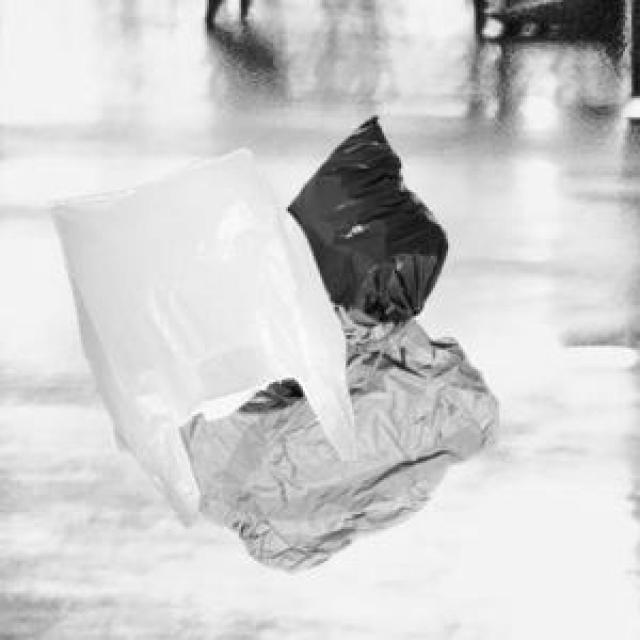miscellaneous trash: (230, 113, 444, 442)
paper: (175, 292, 495, 570)
